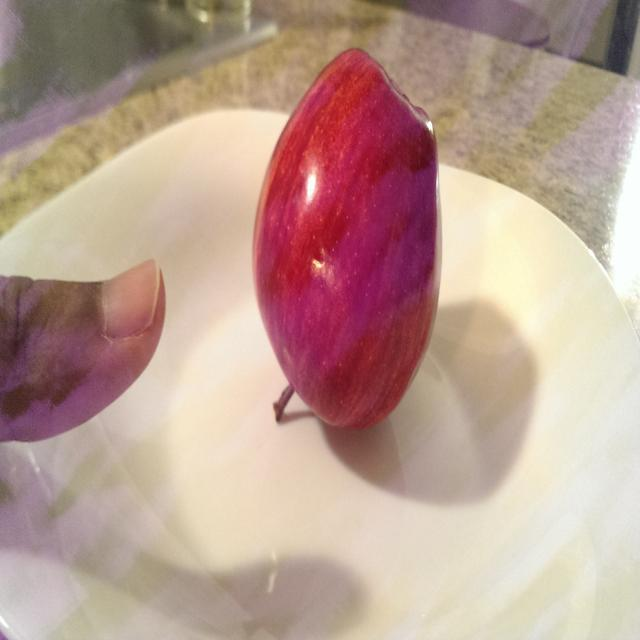Apple: (244, 35, 452, 444)
Finger: (6, 258, 190, 449)
